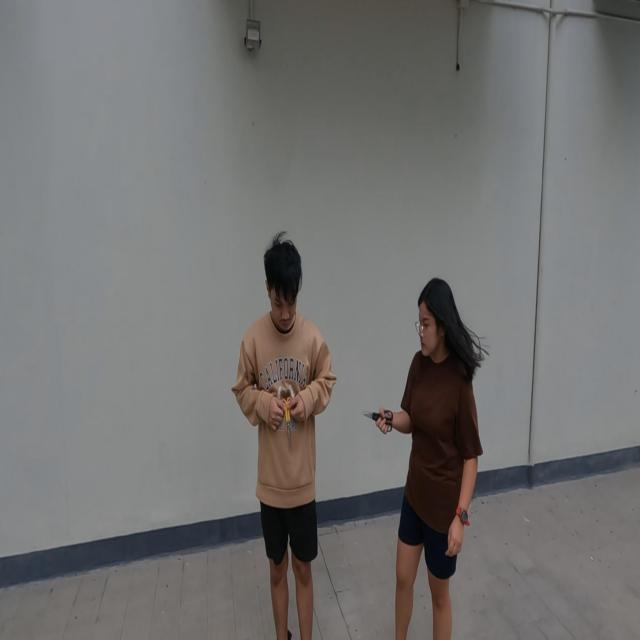scissor: (362, 408, 393, 433), (281, 396, 293, 451)
